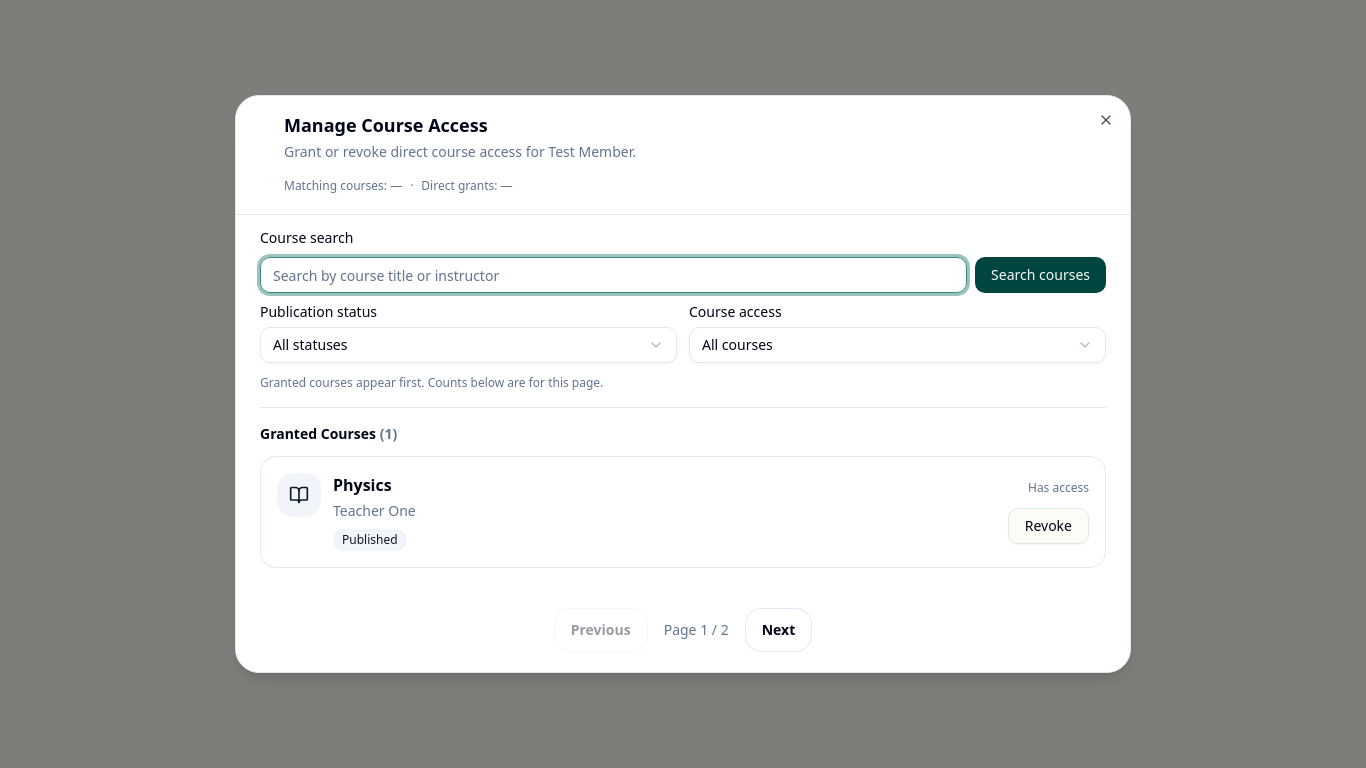
it: course access pages › returns to the last available page when permissions reduce the result set
Click the button "Next" at point(778, 630), box [745,608,812,652]
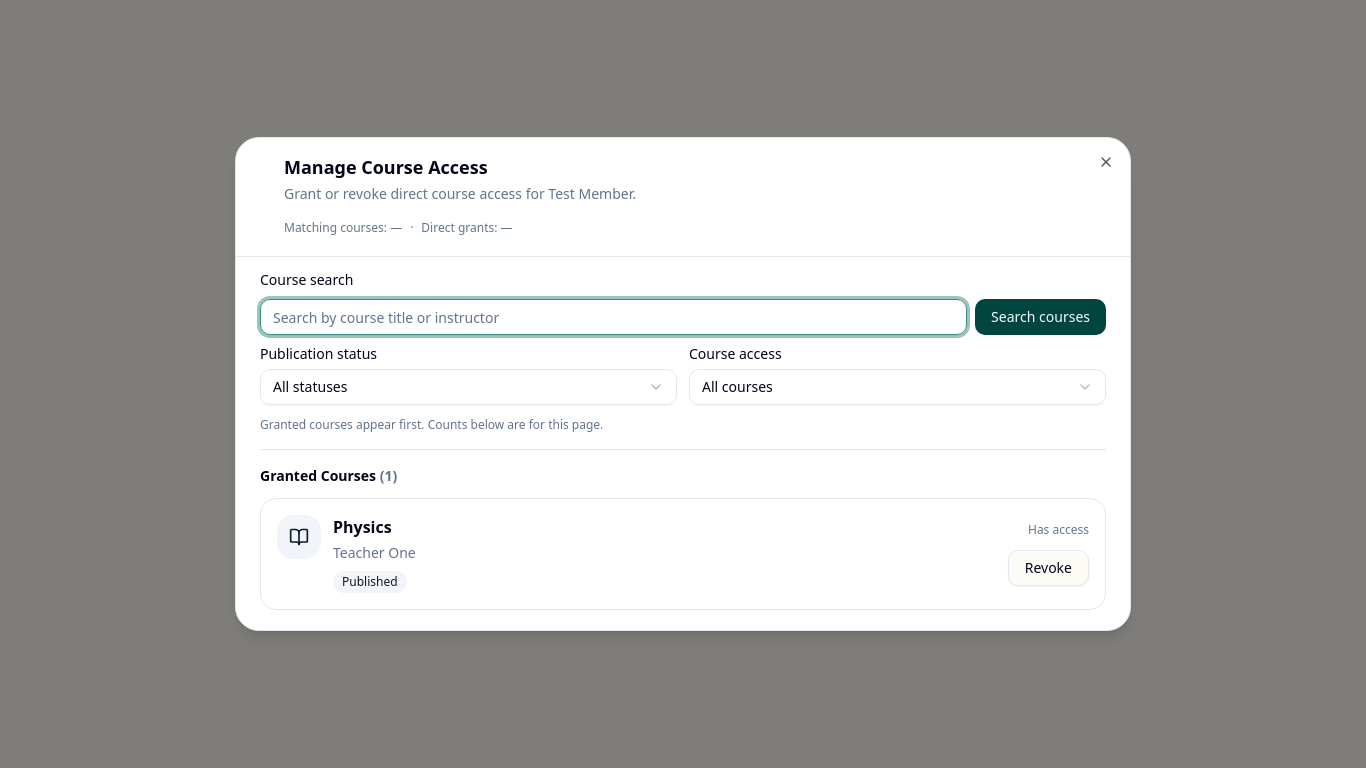
Result: the button "Next" is gone
